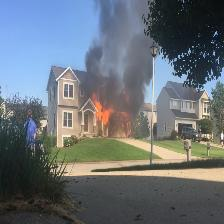fire: (94, 101, 114, 123)
smoke: (97, 1, 152, 101)
